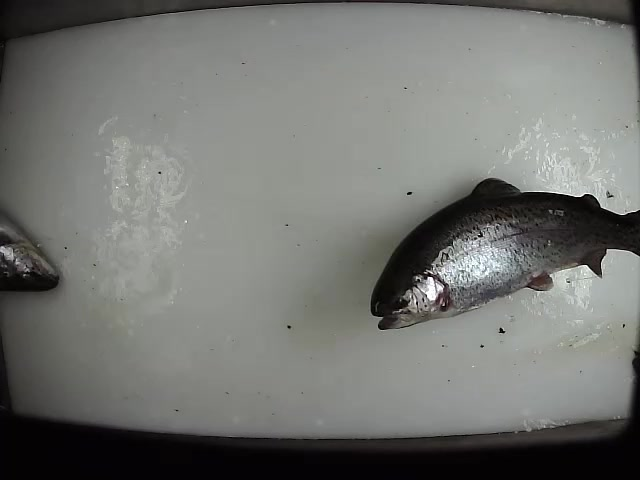fish: (370, 176, 640, 331)
